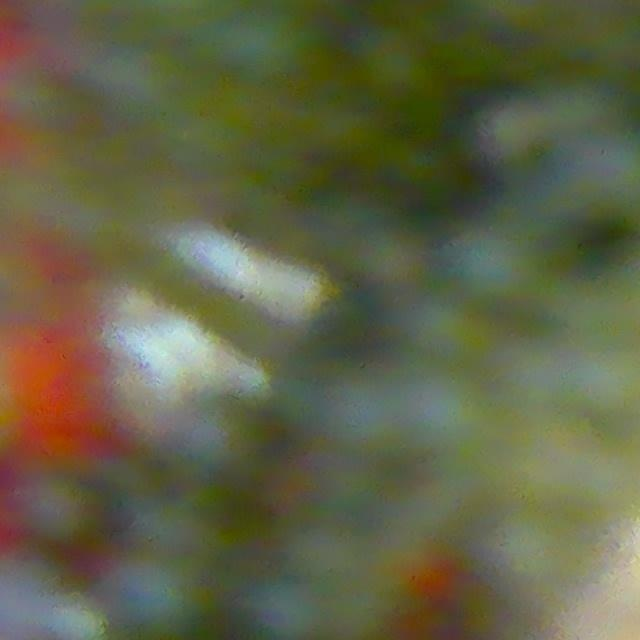SeaGrape: (114, 550, 210, 640), (453, 226, 540, 309), (221, 5, 307, 85), (23, 468, 101, 546), (247, 572, 326, 640), (44, 589, 109, 640)
